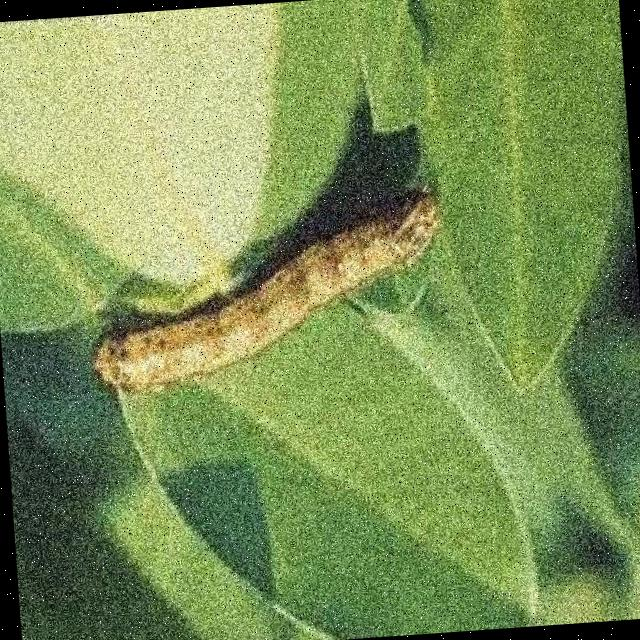worm: (84, 187, 454, 401)
